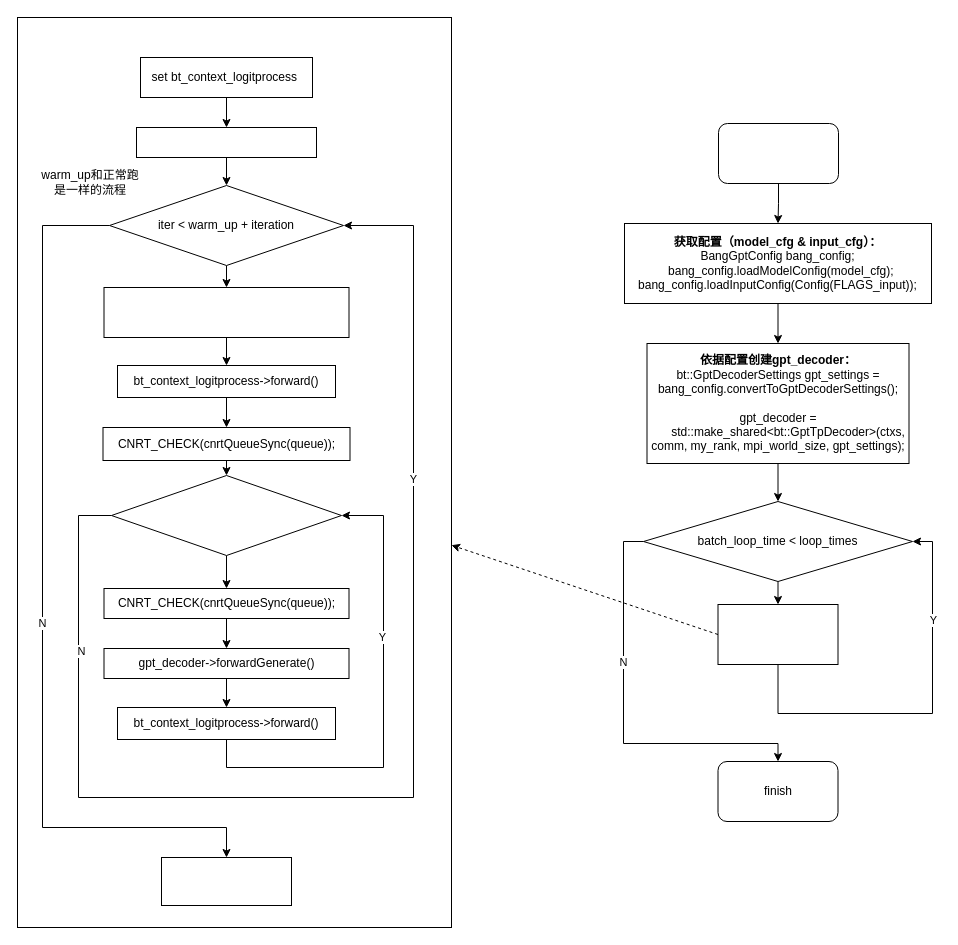
This 958x945 diagram has some shape labels left out. Each missing label, with the centre of its shape:
gpt_decoder->resetGenerateProgress() gpt_decoder->forwardContext(): (226,312)
gpt_decoder->sync(): (226,881)
loop_time < output_length: (226,515)
prepare input & output buffer: (226,142)
start: (778,153)
warm_up && test: (777,634)
